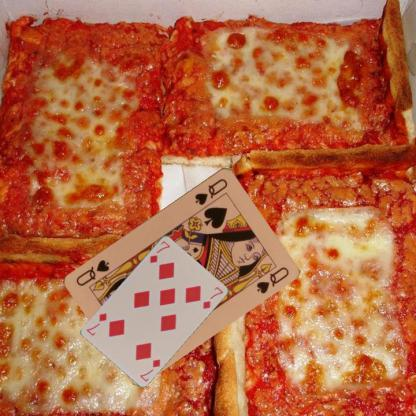7d: (137, 356, 162, 382), (147, 238, 171, 264)
Qs: (192, 175, 229, 206)
